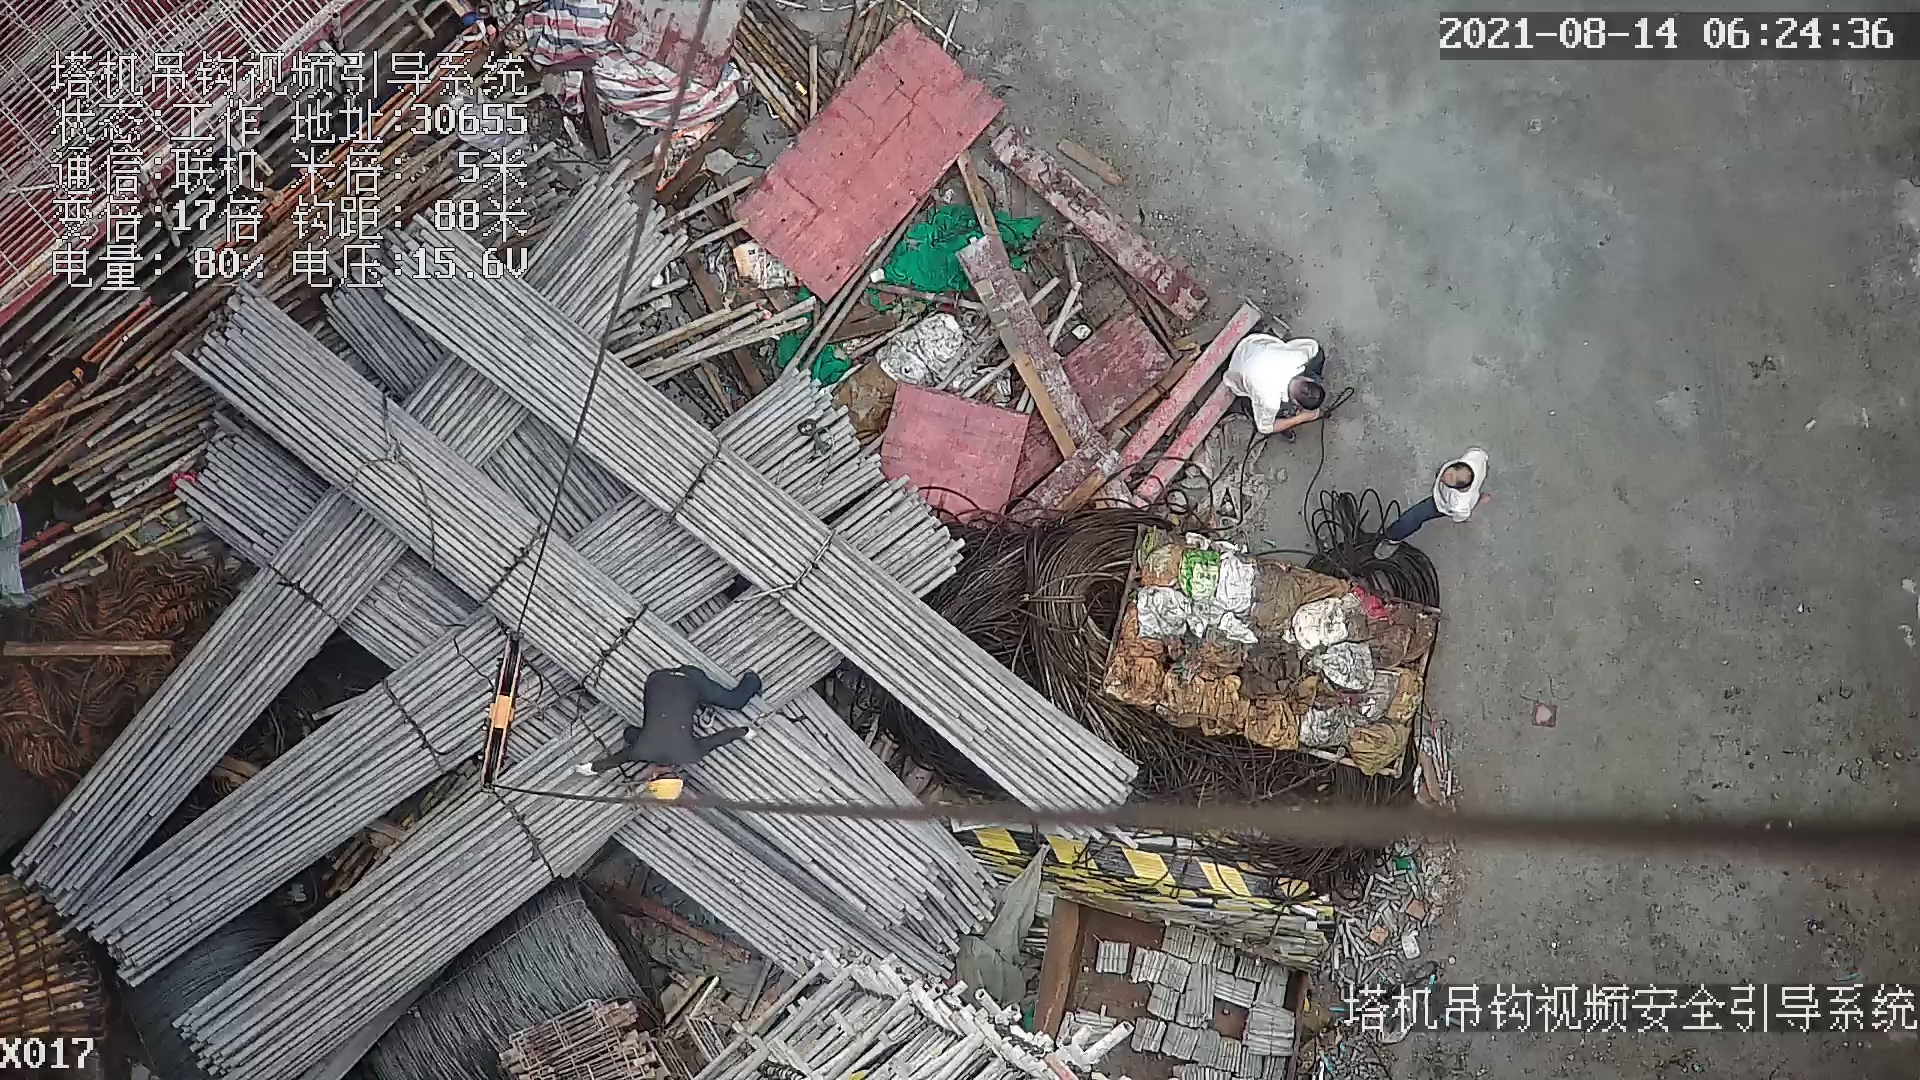helmet: (645, 774, 693, 805)
hook: (479, 627, 535, 803)
person: (573, 672, 764, 799), (1373, 430, 1497, 564), (1218, 332, 1331, 445)
